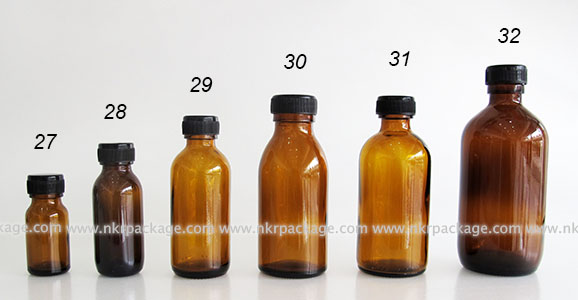glass_bottle: (453, 55, 556, 285), (350, 89, 434, 287), (252, 89, 334, 286), (162, 110, 241, 286), (87, 140, 152, 284), (17, 170, 77, 283)
